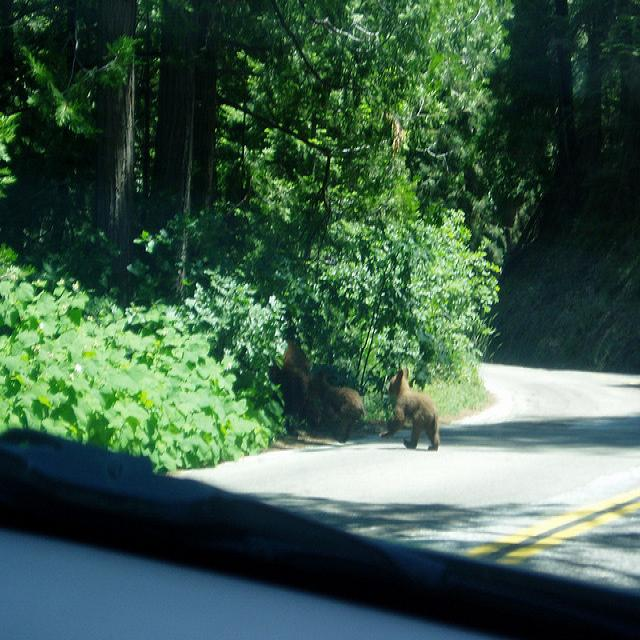Bear: (385, 359, 441, 457), (272, 336, 312, 434), (318, 372, 367, 432)
